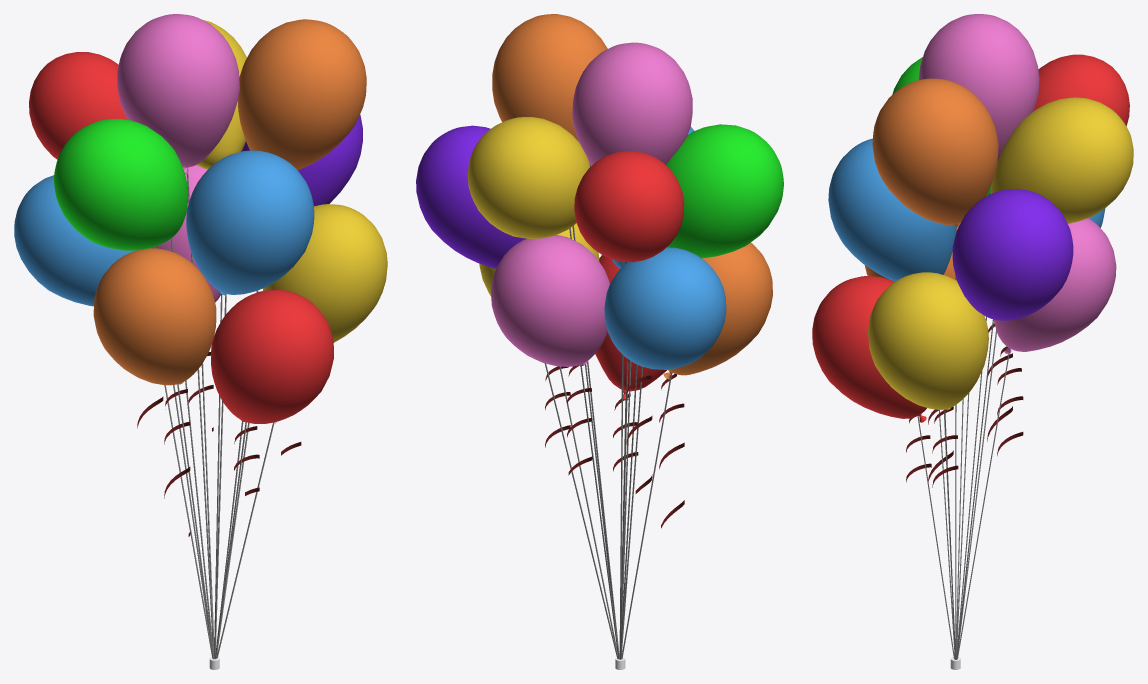
File: ballons_new.glb
3 views of the same model, side by side, from view 1: azimuth 30°, elevation 25°; view 2: azimuth 150°, elevation 25°; view 3: azimuth 270°, elevation 25° (orthographic).
Visible parts, largest first — view 1: Sphere.001_1, Sphere_0, Sphere.003_3, Sphere.002_2, Sphere.004_4, Sphere.005_6, Sphere.006_8, Sphere.008_11, Sphere.011_25, Sphere.007_10, Sphere.010_14, Sphere.009_12 (+6 smaller); view 2: Sphere.009_12, Sphere.003_3, Sphere.008_11, Sphere.002_2, Sphere.010_14, Sphere.011_25, Sphere.001_1, Sphere.007_10, Sphere.004_4, Sphere.005_6, Cube.011_20, Cube.015_24 (+8 smaller); view 3: Sphere.001_1, Sphere.006_8, Sphere.007_10, Sphere.010_14, Sphere_0, Sphere.002_2, Sphere.005_6, Sphere.009_12, Sphere.011_25, Cube.011_20, Cube.015_24, Cube.016_26 (+2 smaller).
Part boxes in pixels (x1=…): Sphere.001_1: x1=238, y1=19, x2=366, y2=170; Sphere_0: x1=186, y1=150, x2=314, y2=295; Sphere.003_3: x1=54, y1=119, x2=188, y2=250; Sphere.002_2: x1=117, y1=14, x2=239, y2=174; Sphere.004_4: x1=93, y1=248, x2=216, y2=385; Sphere.005_6: x1=211, y1=290, x2=333, y2=423; Sphere.006_8: x1=262, y1=204, x2=387, y2=342; Sphere.008_11: x1=14, y1=175, x2=151, y2=306; Sphere.011_25: x1=29, y1=52, x2=127, y2=159; Sphere.007_10: x1=241, y1=114, x2=362, y2=206; Sphere.010_14: x1=196, y1=19, x2=246, y2=169; Sphere.009_12: x1=152, y1=165, x2=220, y2=302; Sphere.009_12: x1=491, y1=235, x2=609, y2=366; Sphere.003_3: x1=666, y1=124, x2=783, y2=258; Sphere.008_11: x1=604, y1=247, x2=726, y2=369; Sphere.002_2: x1=572, y1=42, x2=692, y2=166; Sphere.010_14: x1=467, y1=117, x2=590, y2=238; Sphere.011_25: x1=574, y1=151, x2=684, y2=262; Sphere.001_1: x1=492, y1=14, x2=607, y2=141; Sphere.007_10: x1=416, y1=125, x2=526, y2=268; Sphere.004_4: x1=663, y1=242, x2=772, y2=379; Sphere.005_6: x1=595, y1=255, x2=666, y2=400; Cube.011_20: x1=544, y1=363, x2=618, y2=658; Cube.015_24: x1=580, y1=364, x2=619, y2=659; Sphere.001_1: x1=872, y1=78, x2=998, y2=227; Sphere.006_8: x1=868, y1=272, x2=988, y2=410; Sphere.007_10: x1=952, y1=189, x2=1073, y2=320; Sphere.010_14: x1=990, y1=97, x2=1133, y2=223; Sphere_0: x1=828, y1=138, x2=956, y2=281; Sphere.002_2: x1=918, y1=14, x2=1039, y2=162; Sphere.005_6: x1=812, y1=276, x2=926, y2=422; Sphere.009_12: x1=994, y1=218, x2=1116, y2=353; Sphere.011_25: x1=1033, y1=54, x2=1129, y2=126; Cube.011_20: x1=956, y1=319, x2=993, y2=659; Cube.015_24: x1=957, y1=348, x2=1010, y2=658; Cube.016_26: x1=958, y1=329, x2=996, y2=646.
Size of the model in its own units: 9.29 by 17.63 by 8.07.
